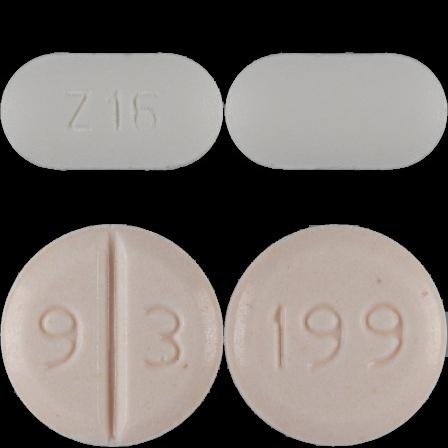21695-714: (0, 0, 224, 224)
